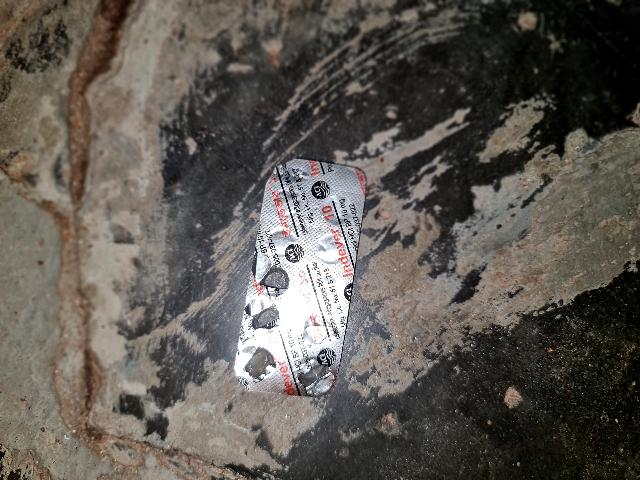medicine: (234, 156, 367, 399)
